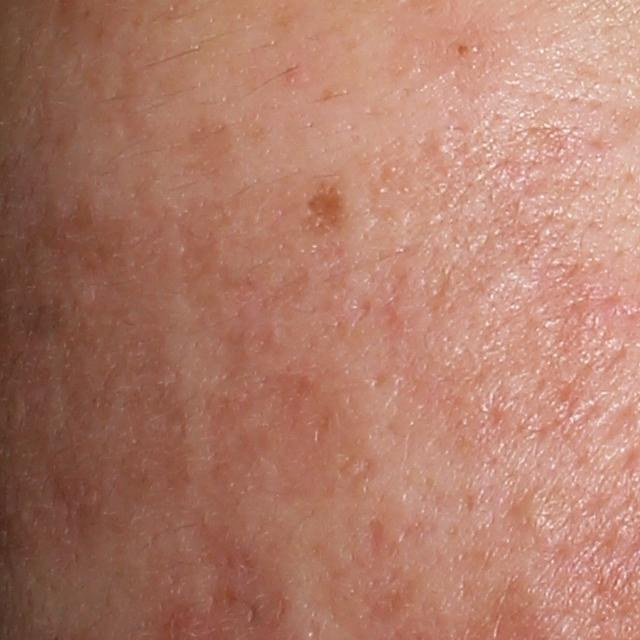atrophic_scar: (297, 529, 348, 631), (587, 390, 636, 452), (364, 510, 385, 565)
comedo: (505, 490, 548, 528), (431, 137, 450, 160)
melasma: (301, 179, 356, 247)
